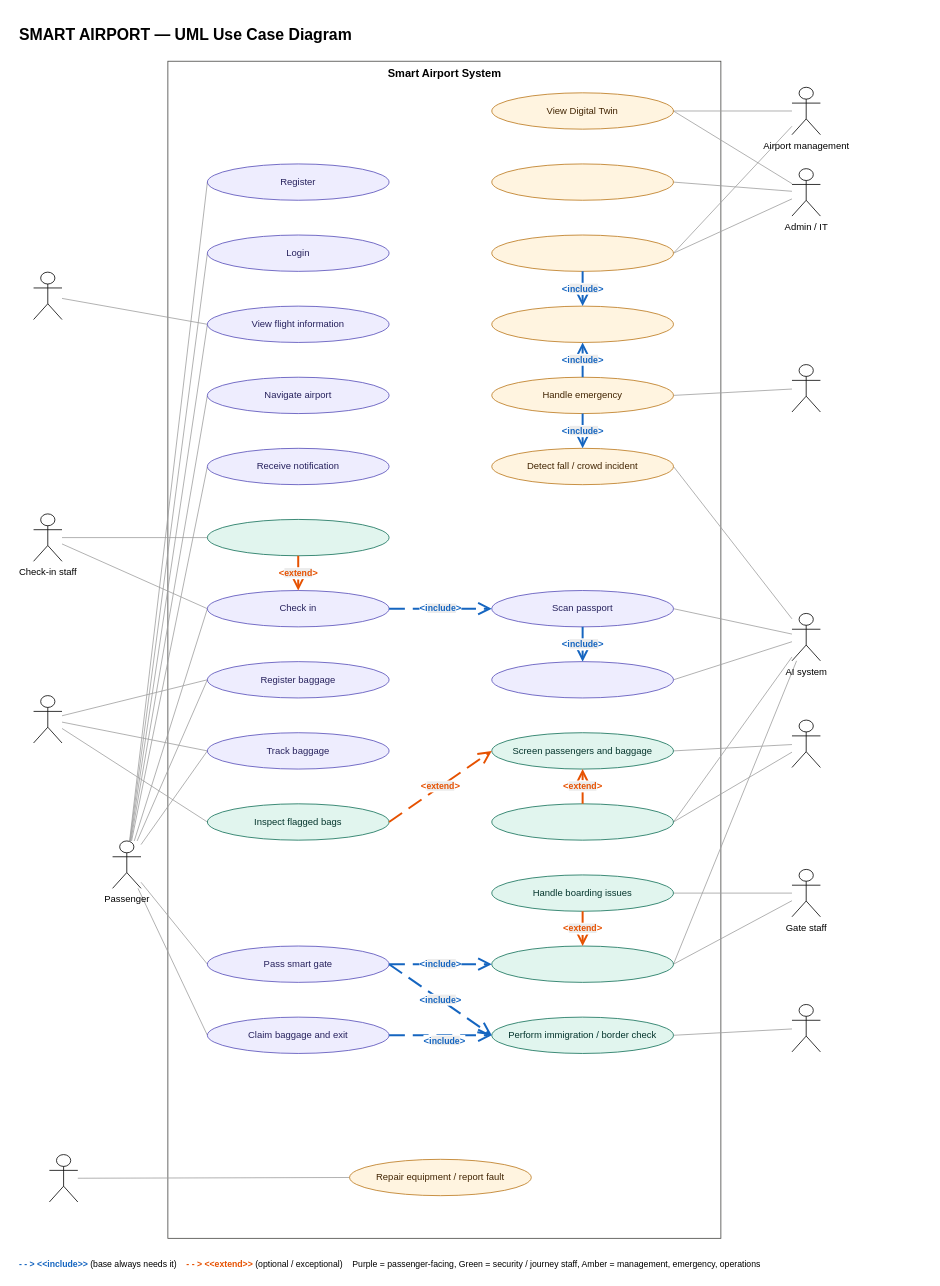
Image size: 940x1286. Some labels were removed from this diagram. The centre of each missing label's shape, as x and y in pixels:
Airline (external): (47,295)
Baggage staff: (47,719)
Border control (external): (805,1028)
Detect threats (AI): (582,821)
Emergency team: (805,388)
Handle ID failure (manual check): (298,537)
Maintenance team: (63,1178)
Manage flights and gates: (582,252)
Manage users and accounts: (582,181)
Security officer: (805,743)
Send notification: (582,323)
Verify boarding (AI face match): (582,963)
Verify face: (582,679)
